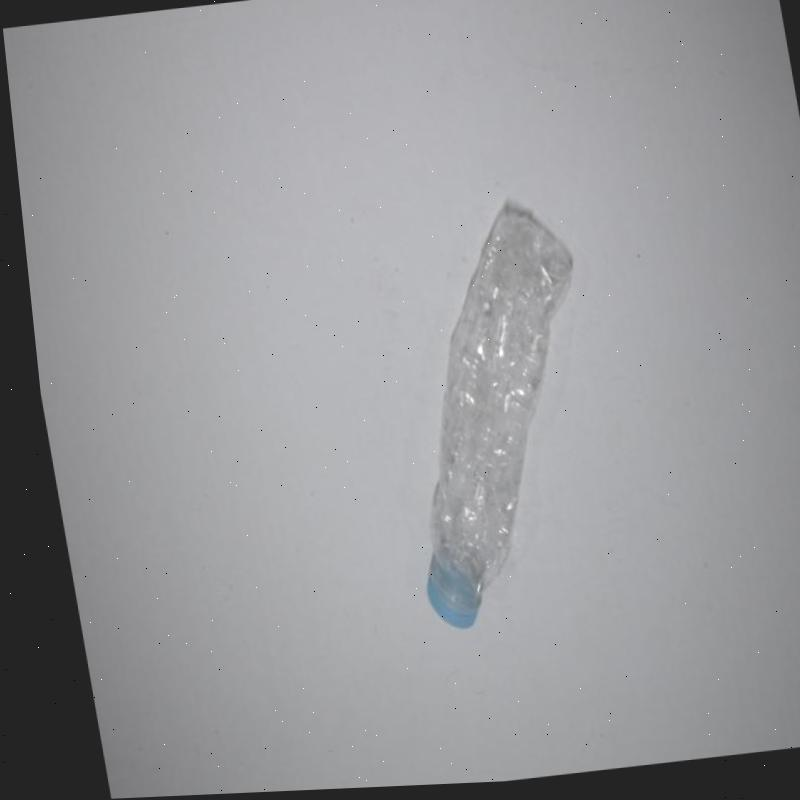botella: (349, 197, 621, 638)
